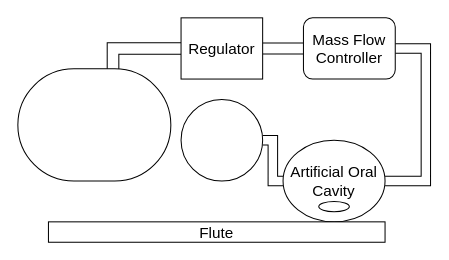
Image size: 449x260. Some labels were removed from this diagram. Each missing label, with the centre of its shape:
"Compressor" belongs at (94,124).
"Pressure Sensor" belongs at (221,139).
